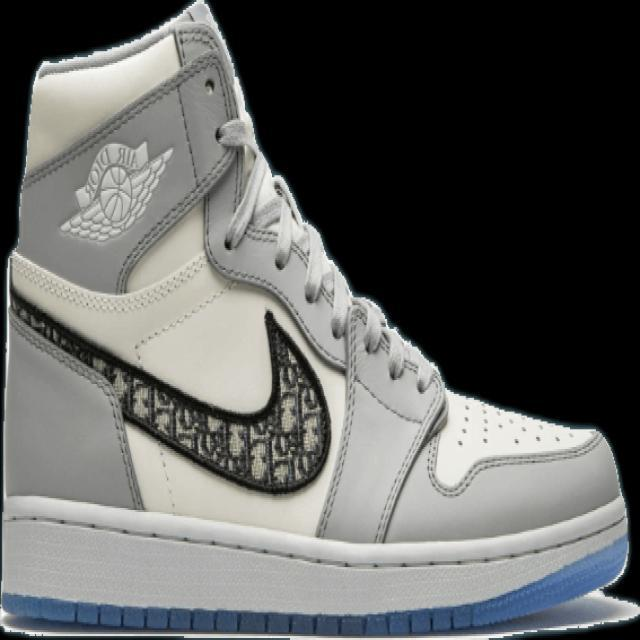J1_InsoleChar: (1, 1, 635, 638)
J1_ShoeLogo: (58, 138, 174, 242)
J1_StitchPattern: (6, 253, 603, 536), (9, 27, 343, 498), (7, 289, 330, 493), (7, 290, 147, 508), (425, 388, 603, 497), (456, 397, 538, 450)
